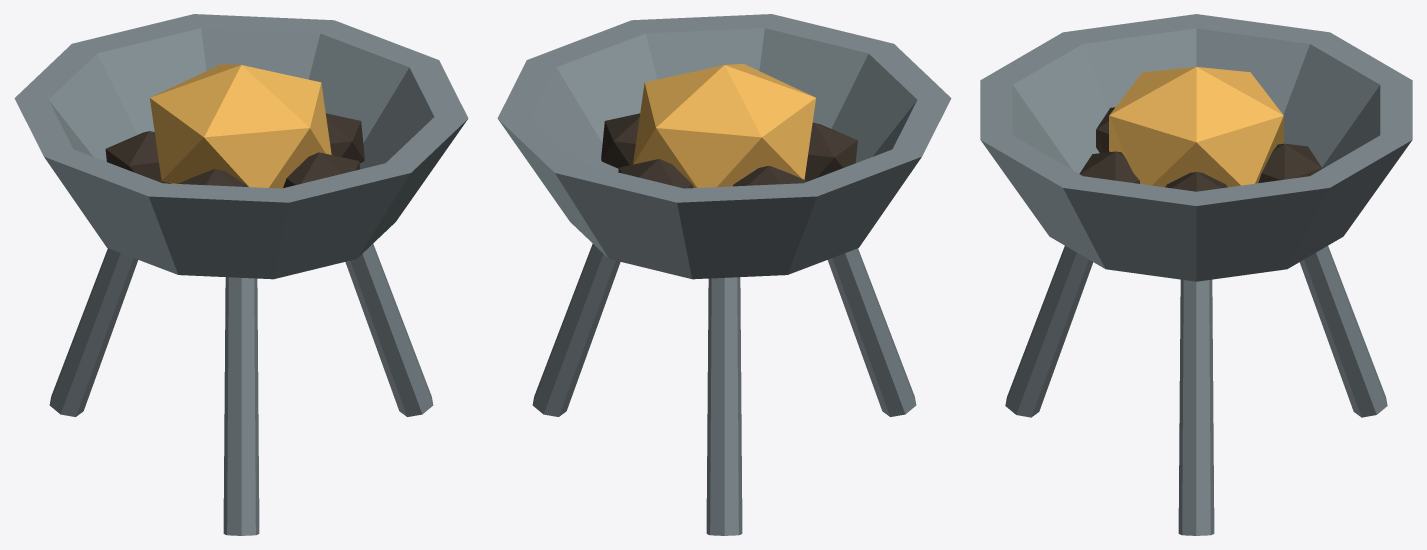
File: CC_Brazier.fbx
The picture shows the model from 3 angles, left to right: view 1: azimuth 30°, elevation 25°; view 2: azimuth 150°, elevation 25°; view 3: azimuth 270°, elevation 25°; orthographic projection.
Parts seen in each view (by area): view 1: Fire bowl, Glow, Brazier leg.002, Brazier leg.001, Brazier leg, Coal.002, Coal.004, Coal, Coal.003; view 2: Fire bowl, Glow, Brazier leg.001, Brazier leg.002, Brazier leg, Coal.003, Coal, Coal.001, Coal.002; view 3: Fire bowl, Glow, Brazier leg, Brazier leg.001, Brazier leg.002, Coal.001, Coal.004, Coal.
Part boxes in pixels (x1,y1,x2,y2): Fire bowl: [14, 14, 468, 279]; Glow: [150, 63, 331, 188]; Brazier leg.002: [223, 277, 259, 535]; Brazier leg.001: [49, 248, 138, 416]; Brazier leg: [345, 244, 433, 416]; Coal.002: [105, 131, 172, 183]; Coal.004: [283, 152, 359, 187]; Coal: [325, 113, 364, 163]; Coal.003: [178, 169, 248, 186]; Fire bowl: [497, 14, 951, 279]; Glow: [633, 63, 815, 187]; Brazier leg.001: [706, 277, 742, 535]; Brazier leg.002: [828, 248, 916, 416]; Brazier leg: [532, 244, 620, 416]; Coal.003: [804, 122, 857, 181]; Coal: [601, 113, 640, 168]; Coal.001: [618, 159, 693, 188]; Coal.002: [733, 166, 807, 186]; Fire bowl: [980, 14, 1412, 281]; Glow: [1109, 67, 1283, 187]; Brazier leg: [1178, 279, 1214, 535]; Brazier leg.001: [1299, 246, 1387, 417]; Brazier leg.002: [1005, 246, 1093, 417]; Coal.001: [1258, 143, 1322, 183]; Coal.004: [1079, 151, 1139, 183]; Coal: [1165, 172, 1227, 191].
Bounding box in the file's own units: 1.24 × 1.17 × 1.18.
